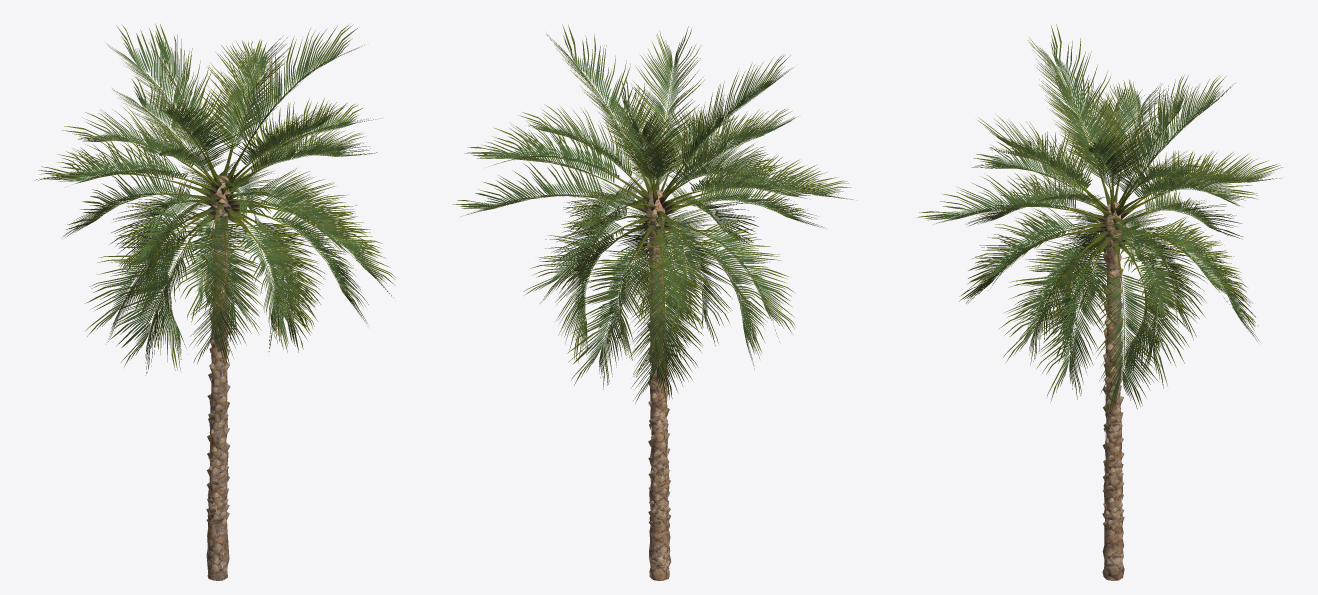
The model's file is palma.glb.
The picture shows the model from 3 angles, left to right: view 1: azimuth 30°, elevation 25°; view 2: azimuth 150°, elevation 25°; view 3: azimuth 270°, elevation 25°; orthographic projection. The views are drawn at different scales.
Parts seen in each view (by area): view 1: Tree_1, Tree_0, Tree_3, Tree_2; view 2: Tree_1, Tree_0, Tree_3, Tree_2; view 3: Tree_1, Tree_0, Tree_3, Tree_2.
Boxes of the visible parts, x1,y1,x2,y2 form: Tree_1: [36, 23, 395, 375]; Tree_0: [206, 175, 230, 580]; Tree_3: [155, 128, 293, 264]; Tree_2: [206, 229, 230, 526]; Tree_1: [452, 24, 853, 403]; Tree_0: [647, 190, 671, 580]; Tree_3: [583, 139, 723, 283]; Tree_2: [647, 242, 670, 527]; Tree_1: [917, 24, 1282, 417]; Tree_0: [1102, 202, 1124, 580]; Tree_3: [1049, 149, 1167, 292]; Tree_2: [1102, 252, 1124, 529].
Bounding box in the file's own units: 5.46 × 7.34 × 5.21.
Materials: 4 (4 with a texture image).
